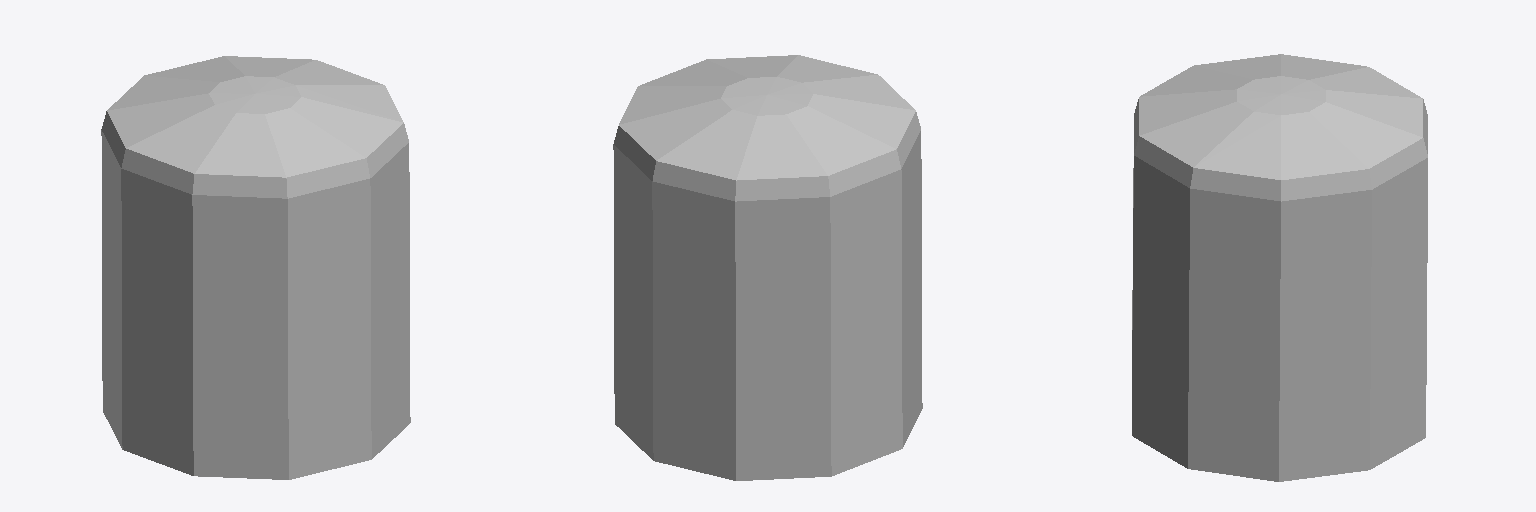
File: crystal_controller_right_button7.obj
The picture shows the model from 3 angles: view 1: azimuth 30°, elevation 25°; view 2: azimuth 150°, elevation 25°; view 3: azimuth 270°, elevation 25°; orthographic projection.
Visible parts, largest first — view 1: crystal_controller_right_button7; view 2: crystal_controller_right_button7; view 3: crystal_controller_right_button7.
Part boxes in pixels (x1,y1,x2,y2): crystal_controller_right_button7: (101,56,410,479); crystal_controller_right_button7: (613,55,922,480); crystal_controller_right_button7: (1132,54,1427,481).
Bounding box in the file's own units: 0.0098 × 0.0113 × 0.0094.